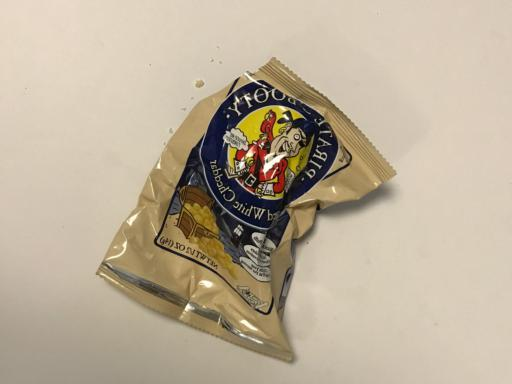trash: (94, 55, 396, 367)
